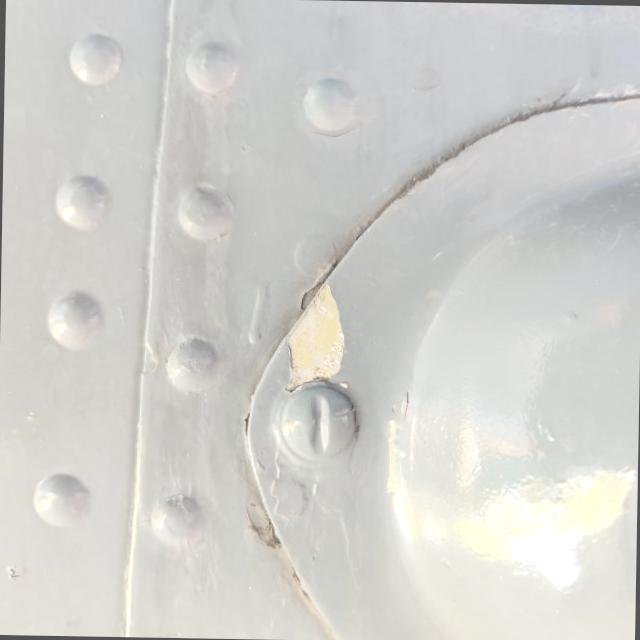paint-off: (248, 254, 374, 408)
